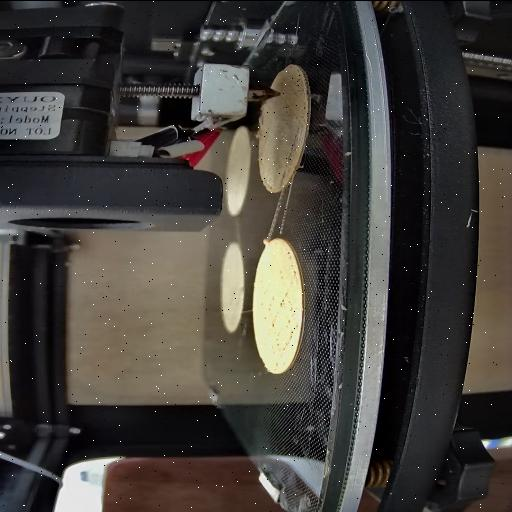under_extrusion: (269, 248, 299, 370), (274, 120, 306, 188), (278, 66, 310, 106)
